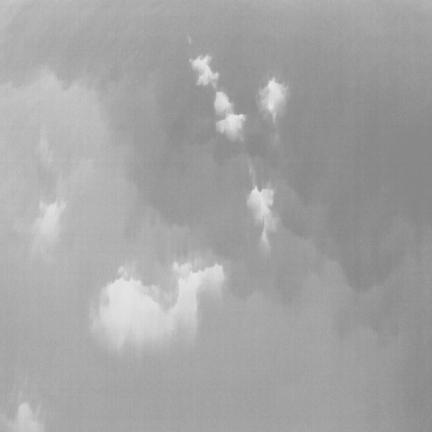flukeprints: (91, 262, 223, 352), (247, 187, 276, 250), (259, 78, 288, 123), (190, 55, 219, 89), (216, 113, 246, 140), (214, 91, 232, 116)
